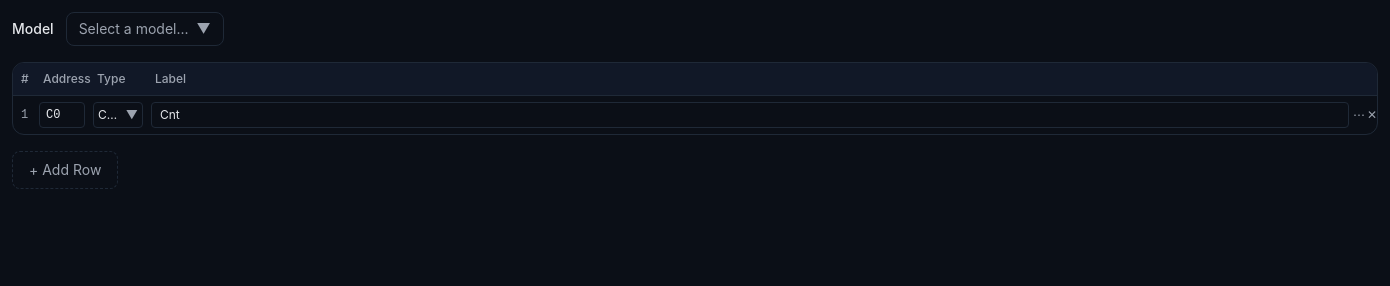
M3 — Preset validation UI (Timer/Counter K-constant) › shows preset error for Counter with invalid value and placeholder K10
What coordinates should you click on to do the following:
click the button with test id "io-more-0"
I would click on:
 (1359, 115)
Its box is [1353, 103, 1365, 127].
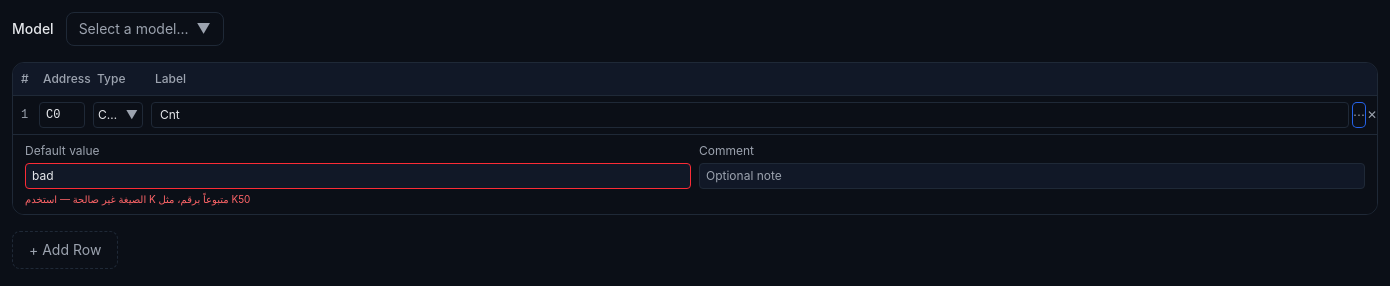
Expected: the field with test id "io-default-0" is shown, [25, 163, 691, 189]
Expected: the text "الصيغة غير صالحة — استخدم K متبوعاً برقم، مثل K50" is shown, [25, 193, 250, 205]
